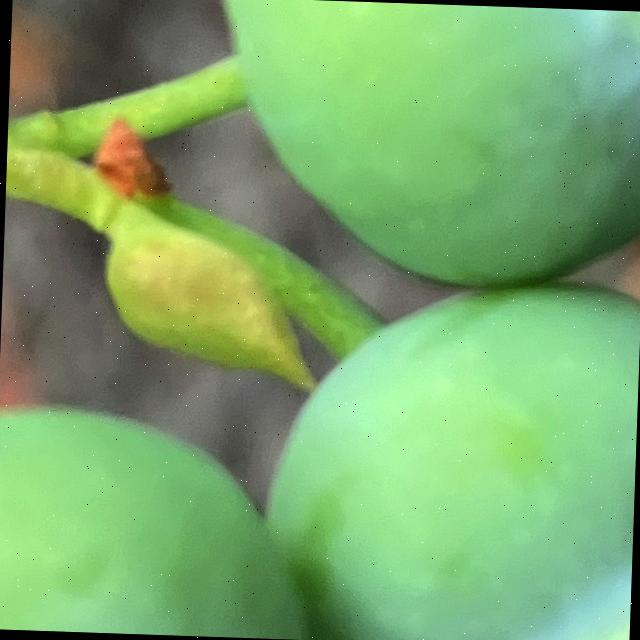Blueberries: (256, 267, 640, 640), (196, 0, 640, 290)
